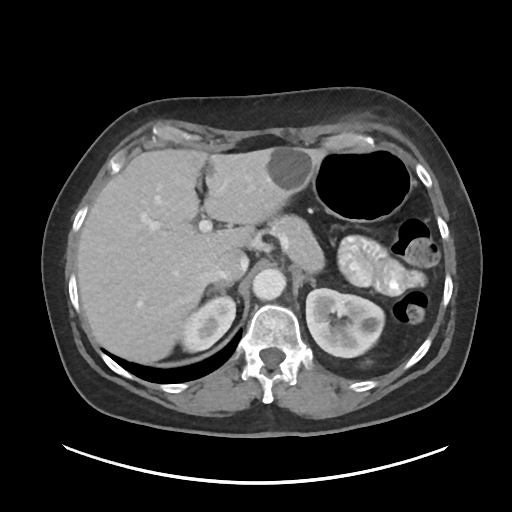Lesion: (353, 316, 384, 335)
